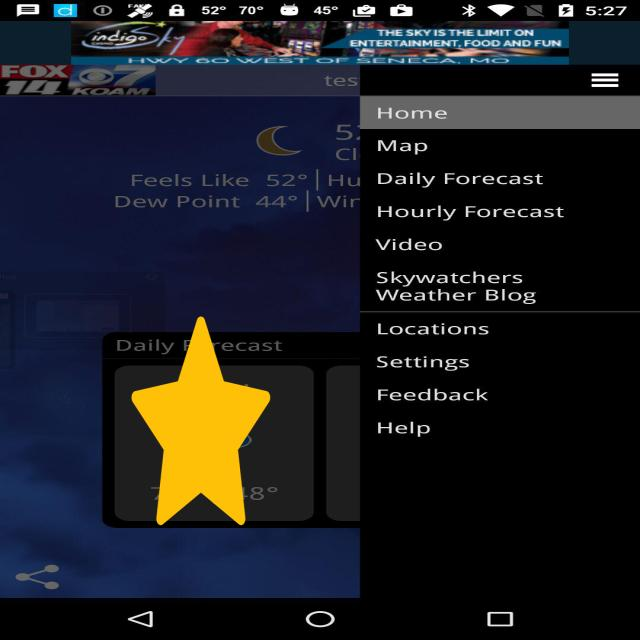forced continuity: (132, 316, 270, 526)
